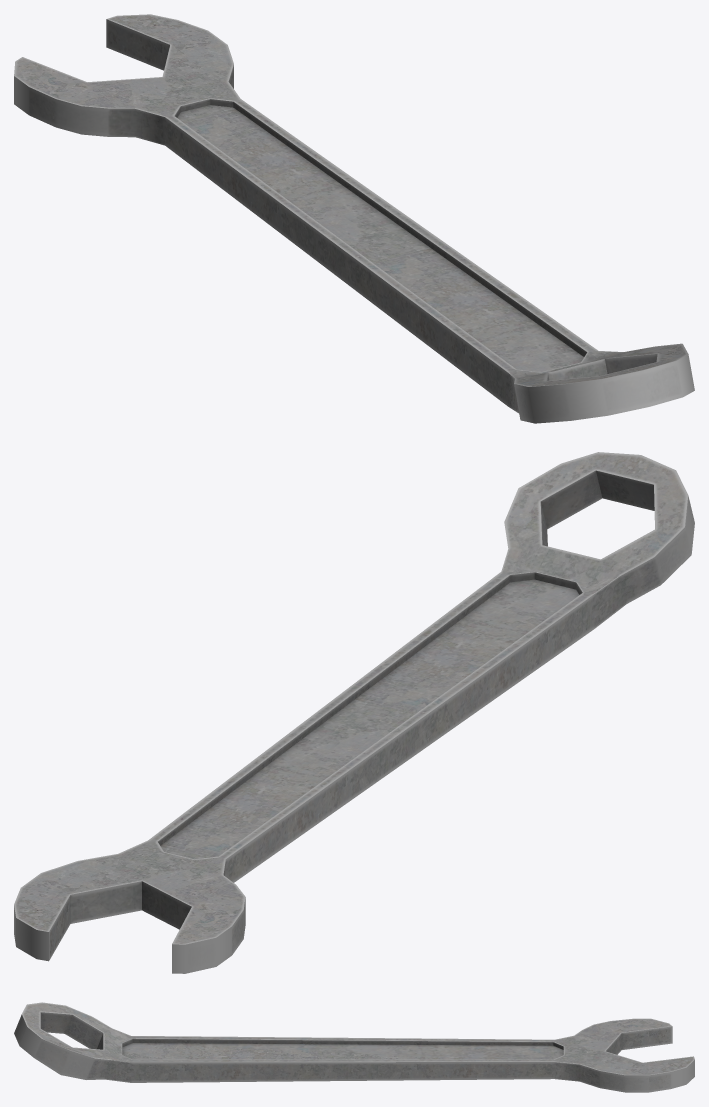
File: low-poly_wrench.glb
The picture shows the model from 3 angles, top to bottom: view 1: azimuth 30°, elevation 25°; view 2: azimuth 150°, elevation 25°; view 3: azimuth 270°, elevation 25°; orthographic projection. The views are drawn at different scales.
Parts seen in each view (by area): view 1: Object_2; view 2: Object_2; view 3: Object_2.
Part boxes in pixels (x1,y1,x2,y2): Object_2: (14, 14, 694, 423); Object_2: (14, 452, 694, 973); Object_2: (14, 1002, 694, 1092).
Bounding box in the file's own units: 0.0873 × 0.0399 × 0.4437.
Materials: 1 (1 with a texture image).
